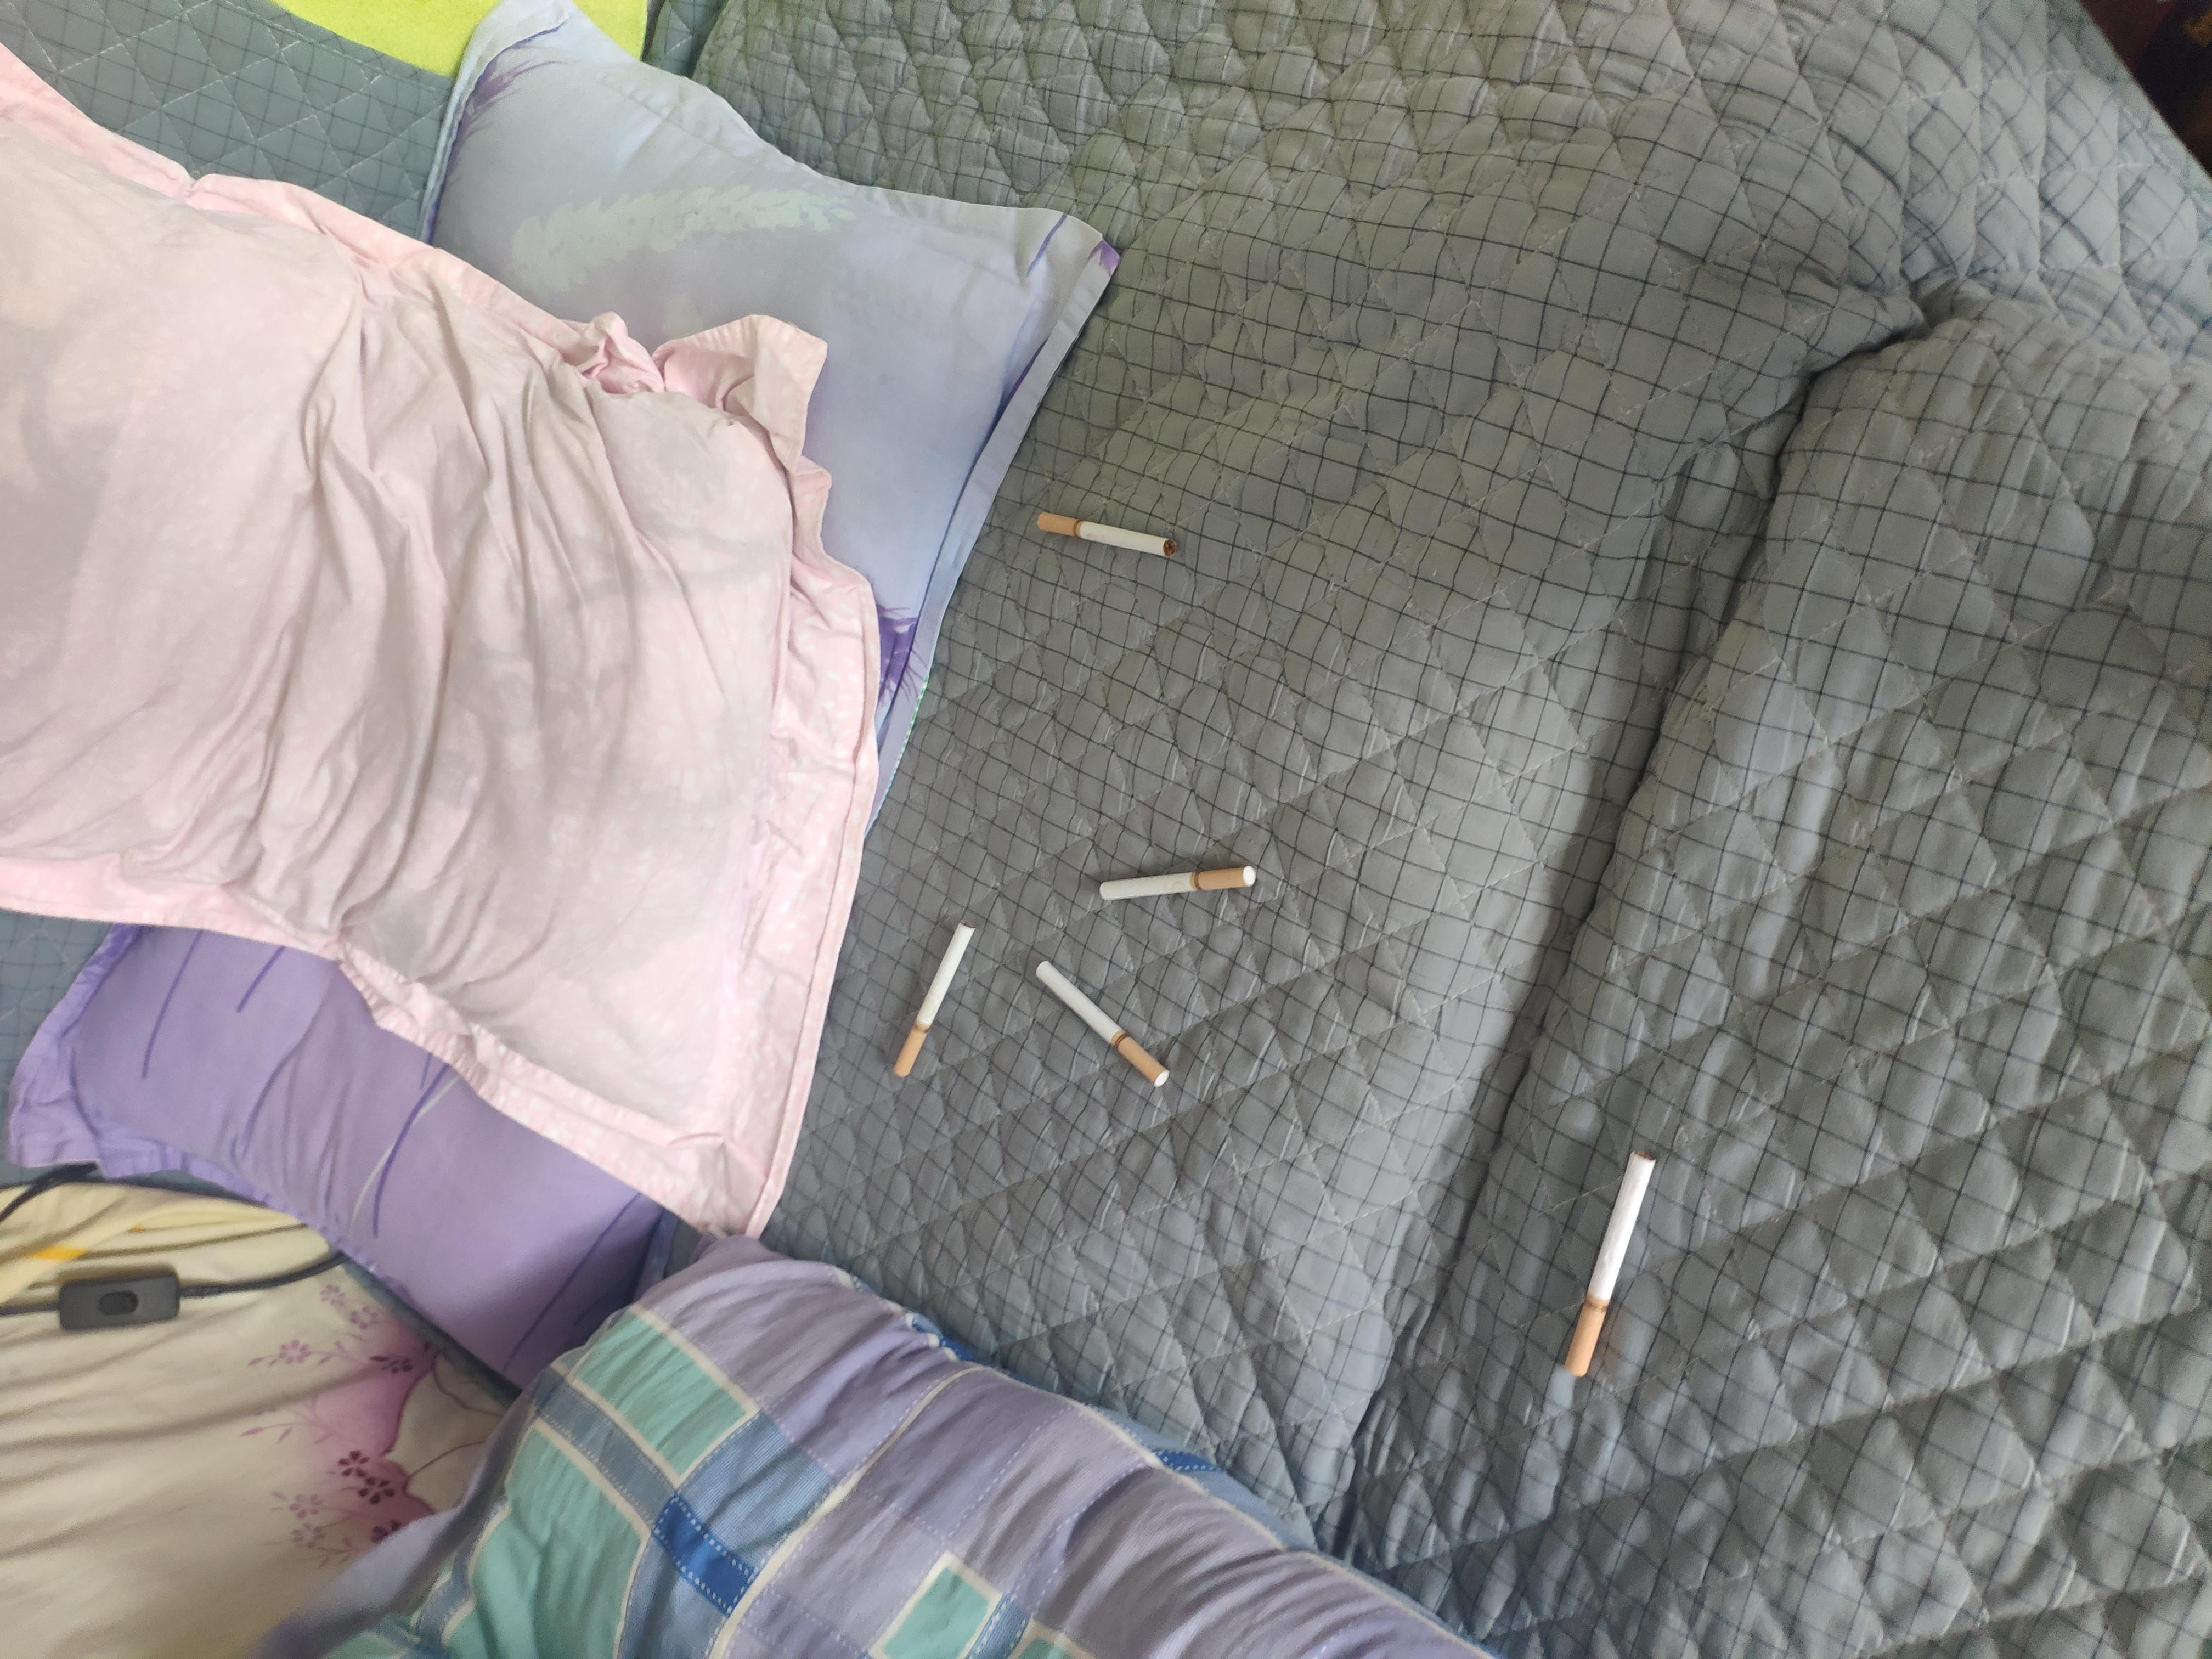smoke: (374, 1173, 683, 1244), (763, 777, 934, 878), (775, 671, 991, 732), (1468, 779, 1531, 884), (1010, 824, 1061, 943)
